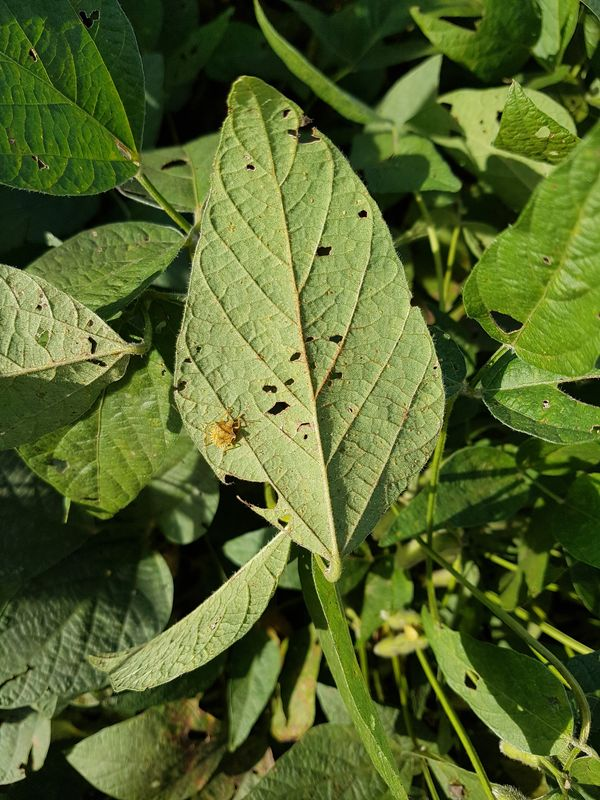Euschistus_heros_ninfa: (198, 404, 255, 458)
